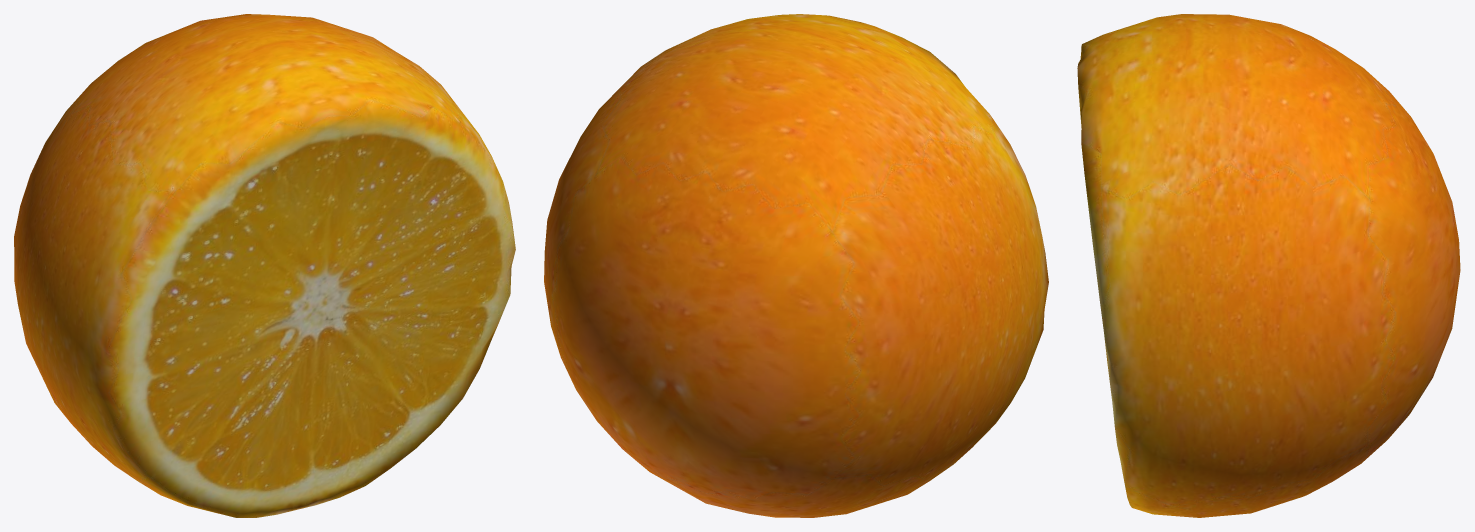
The picture shows the model from 3 angles, left to right: view 1: azimuth 30°, elevation 25°; view 2: azimuth 150°, elevation 25°; view 3: azimuth 270°, elevation 25°; orthographic projection.
Size of the model in its own units: 1 by 0.9993 by 0.7587.
1 material, 1 textured.
